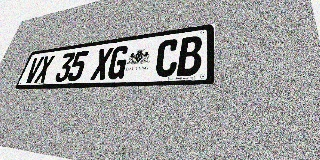3: (54, 52, 76, 82)
5: (66, 50, 89, 81)
B: (176, 35, 203, 76)
C: (154, 38, 180, 77)
G: (106, 45, 130, 80)
V: (23, 56, 44, 84)
X: (90, 47, 114, 80), (34, 55, 55, 83)
